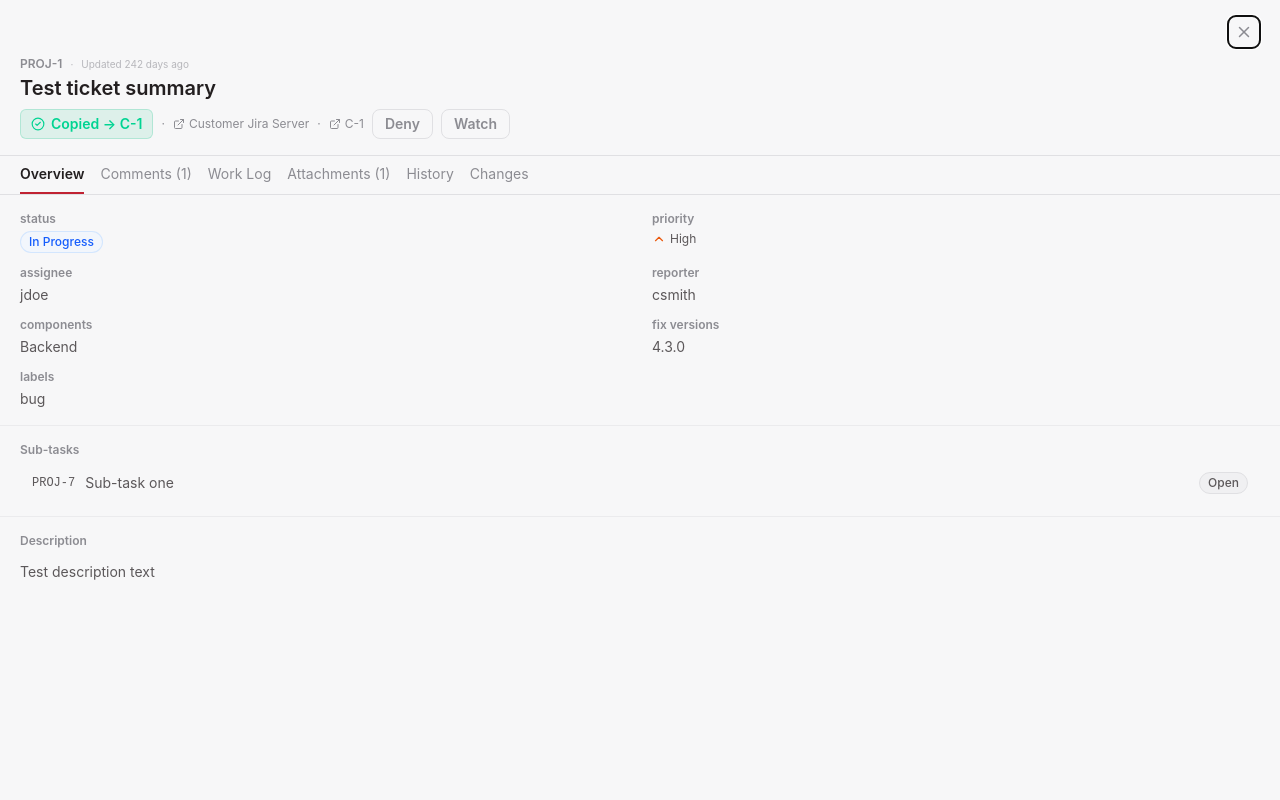
TicketDetailPanel › Phase 37.2 watch › Linked shows Deny then Watch; Watch confirms and moves to Watched
Click the button "Watch" at (475, 124), box [441,109,510,139]
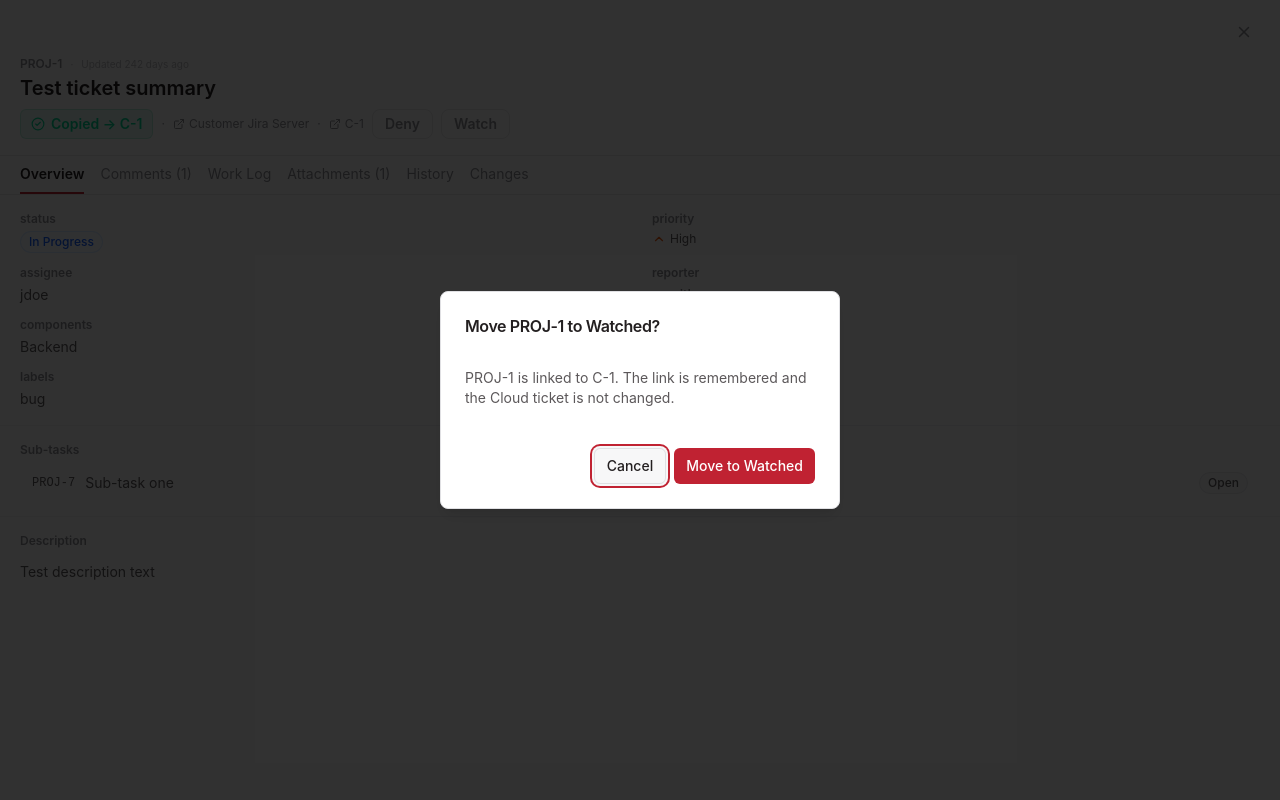
Result: the dialog is shown at [440,291,840,509]
Click the button "Move to Watched" at (745, 466), box [674,448,815,484]
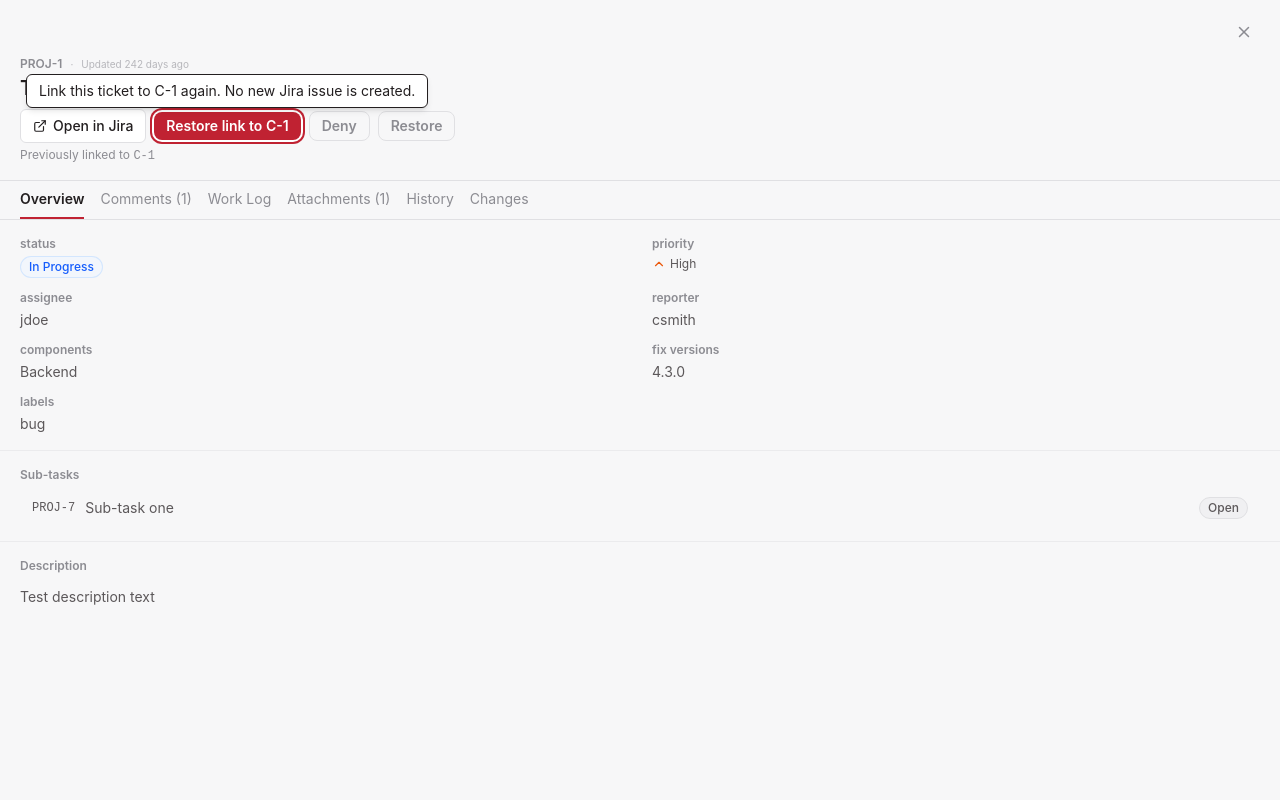
Result: the dialog is gone
